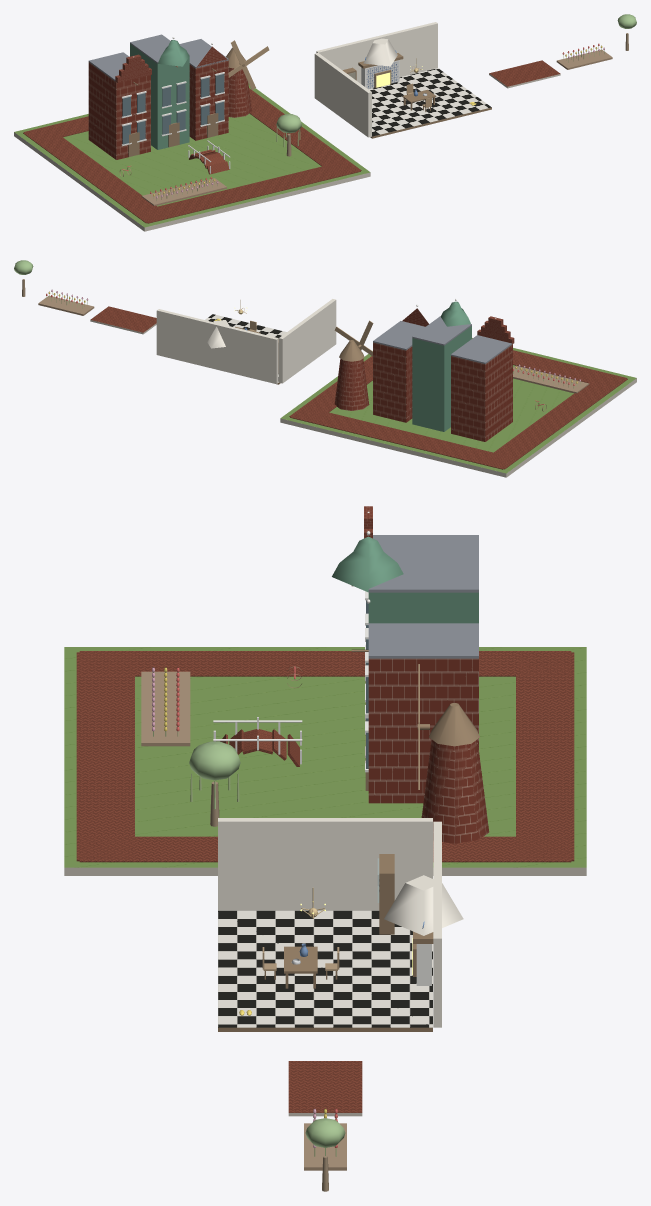
The model's file is kit-42-diorama-belanda.glb.
The picture shows the model from 3 angles, top to bottom: view 1: azimuth 30°, elevation 25°; view 2: azimuth 150°, elevation 25°; view 3: azimuth 270°, elevation 25°; orthographic projection. The views are drawn at different scales.
Parts seen in each view (by area): view 1: BelandaDio_Eksterior, BelandaDio_InteriorLengkap, BelandaDio_JalanKlinker, BelandaDio_TanamanKhas; view 2: BelandaDio_Eksterior, BelandaDio_InteriorLengkap, BelandaDio_JalanKlinker, BelandaDio_TanamanKhas; view 3: BelandaDio_Eksterior, BelandaDio_InteriorLengkap, BelandaDio_JalanKlinker, BelandaDio_TanamanKhas.
Boxes of the visible parts, x1,y1,x2,y2 form: BelandaDio_Eksterior: [14, 34, 370, 231]; BelandaDio_InteriorLengkap: [314, 22, 491, 138]; BelandaDio_JalanKlinker: [489, 60, 560, 88]; BelandaDio_TanamanKhas: [556, 14, 636, 69]; BelandaDio_Eksterior: [280, 299, 636, 477]; BelandaDio_InteriorLengkap: [156, 299, 336, 384]; BelandaDio_JalanKlinker: [90, 306, 156, 334]; BelandaDio_TanamanKhas: [14, 260, 94, 315]; BelandaDio_Eksterior: [64, 506, 586, 875]; BelandaDio_InteriorLengkap: [218, 818, 463, 1031]; BelandaDio_JalanKlinker: [288, 1061, 362, 1116]; BelandaDio_TanamanKhas: [304, 1108, 346, 1191].
Bounding box in the file's own units: 41.85 × 8.34 × 17.
Materials: 37 (5 with a texture image).
